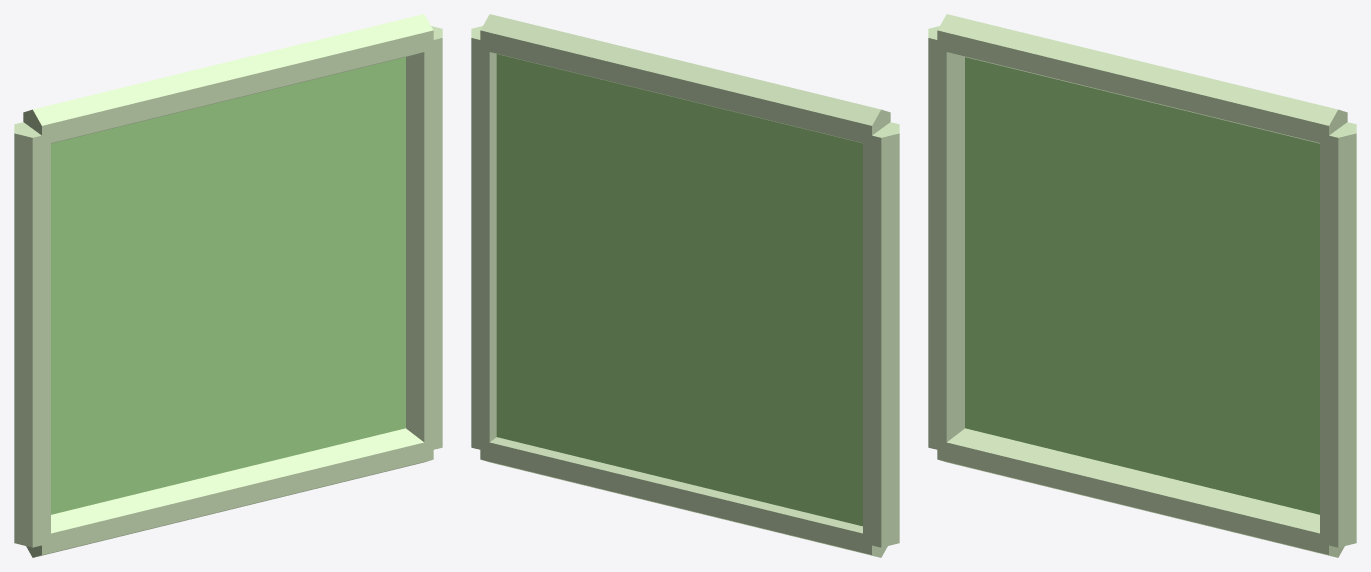
Rendered from simbolo_cuadrado.glb.
3 views of the same model, side by side, from view 1: azimuth 30°, elevation 25°; view 2: azimuth 150°, elevation 25°; view 3: azimuth 330°, elevation 25° (orthographic).
Visible parts, largest first — view 1: simbolo_cuadrado; view 2: simbolo_cuadrado; view 3: simbolo_cuadrado.
Boxes of the visible parts, box(x1,y1,x2,y2) form: simbolo_cuadrado: box(14, 14, 442, 557); simbolo_cuadrado: box(471, 14, 899, 557); simbolo_cuadrado: box(928, 14, 1356, 557).
Bounding box in the file's own units: 0.65 × 0.65 × 0.0485.
